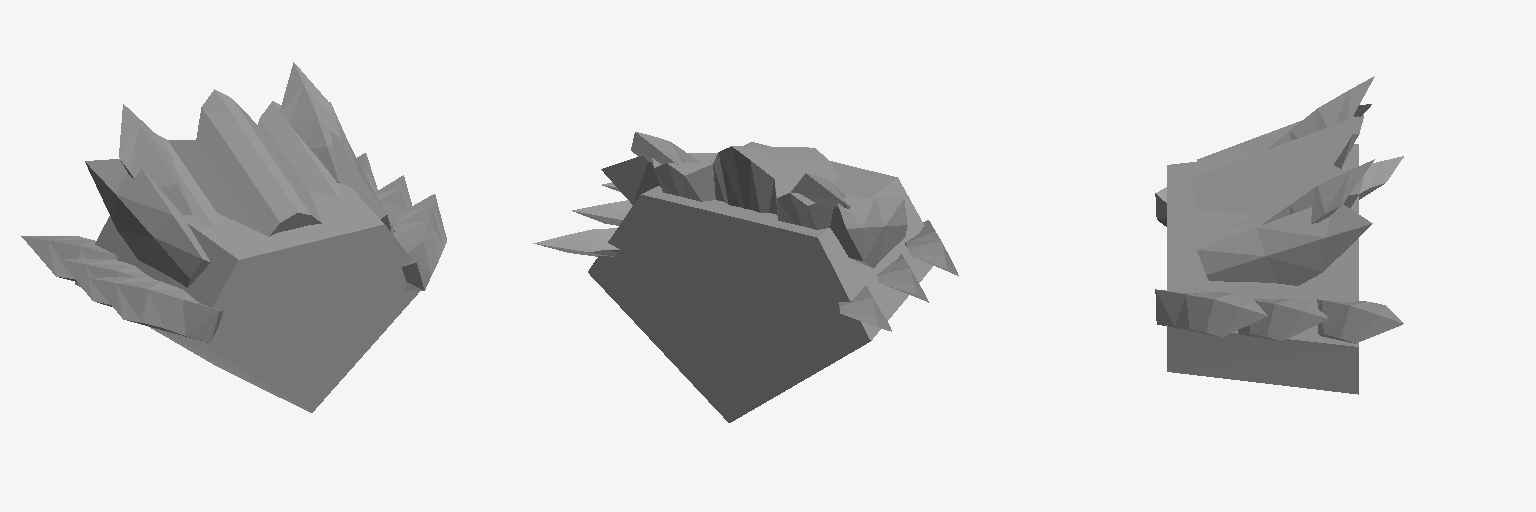
File: Tail1.obj
3 renders of one model, left to right at view 1: azimuth 30°, elevation 25°; view 2: azimuth 150°, elevation 25°; view 3: azimuth 270°, elevation 25°, orthographic.
Visible parts, largest first — view 1: 立方体.019; view 2: 立方体.019; view 3: 立方体.019.
Part boxes in pixels (left/top/right/bottom): 立方体.019: left=21, top=62, right=446, bottom=412; 立方体.019: left=533, top=132, right=958, bottom=422; 立方体.019: left=1155, top=76, right=1403, bottom=394.
Bounding box in the file's own units: 1.46 × 1.12 × 0.9103.